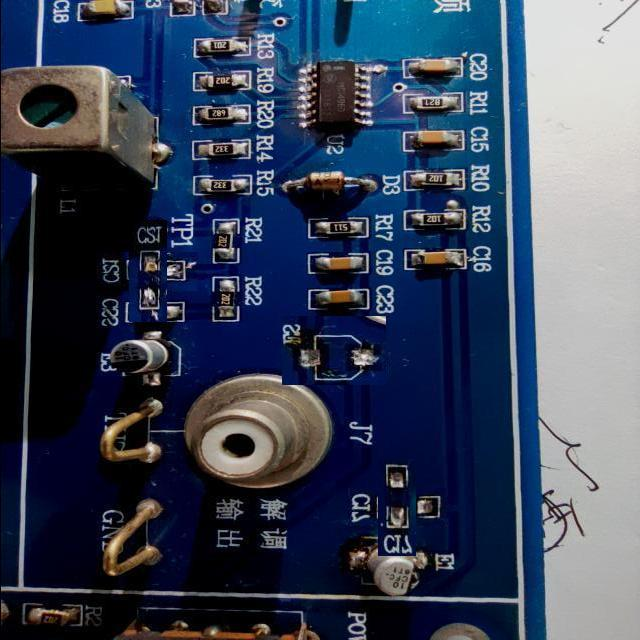miss_welding: (282, 316, 386, 385), (112, 236, 183, 307), (363, 473, 431, 541)
